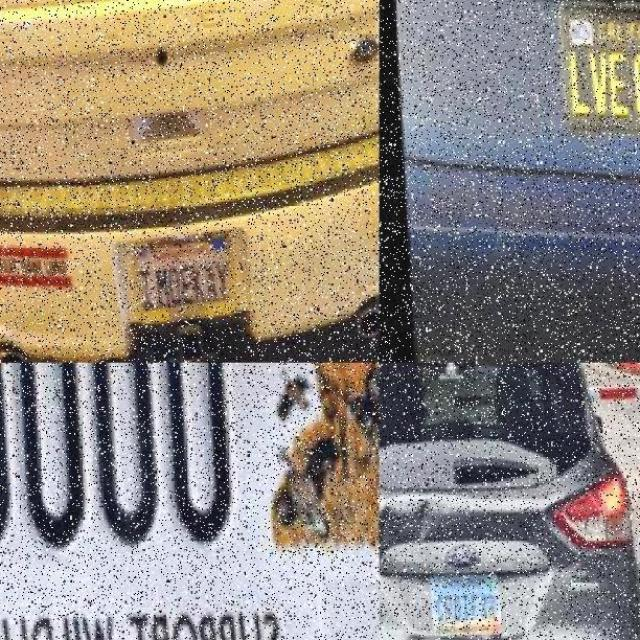license-plate: (4, 352, 380, 640), (123, 233, 256, 326), (550, 10, 640, 120), (423, 564, 524, 633)
